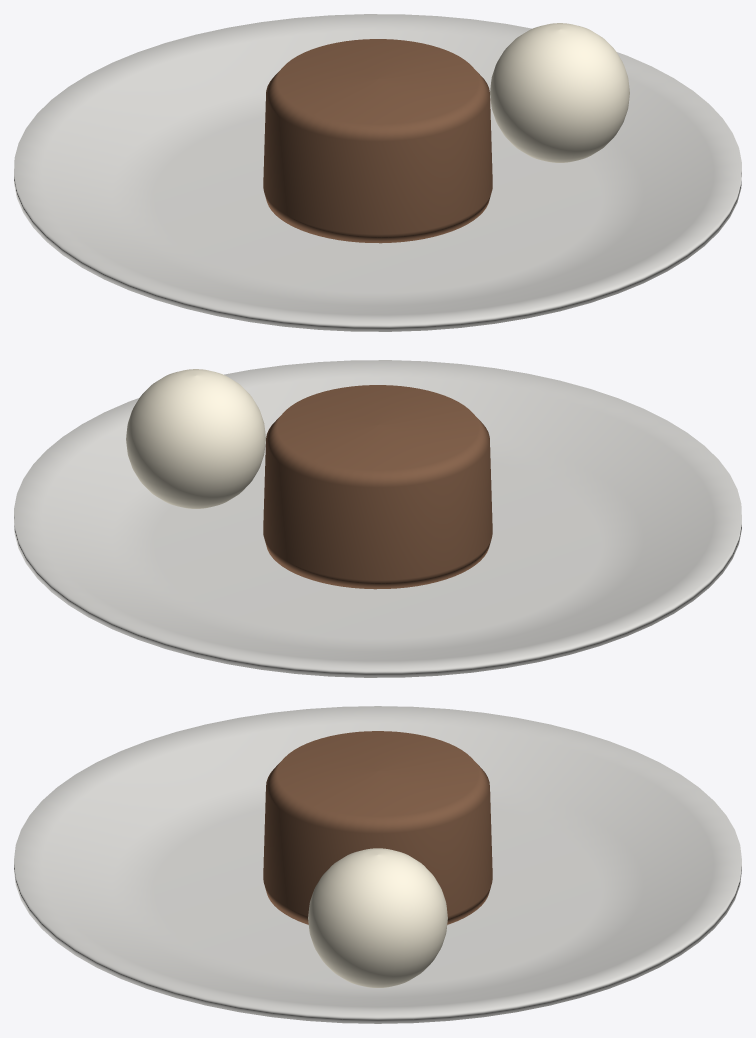
The model's file is sobremesa.glb.
3 renders of one model, top to bottom at view 1: azimuth 30°, elevation 25°; view 2: azimuth 150°, elevation 25°; view 3: azimuth 270°, elevation 25°, orthographic.
Visible parts, largest first — view 1: Prato, Bolo, Sorvete; view 2: Prato, Bolo, Sorvete; view 3: Prato, Bolo, Sorvete.
Boxes of the visible parts, bbox=[...] form: Prato: bbox=[14, 14, 741, 331]; Bolo: bbox=[263, 39, 492, 243]; Sorvete: bbox=[490, 23, 629, 162]; Prato: bbox=[14, 360, 741, 677]; Bolo: bbox=[263, 385, 492, 589]; Sorvete: bbox=[126, 369, 265, 508]; Prato: bbox=[14, 706, 741, 1023]; Bolo: bbox=[263, 731, 492, 924]; Sorvete: bbox=[308, 848, 447, 987].
Size of the model in its own units: 0.26 by 0.053 by 0.26.
